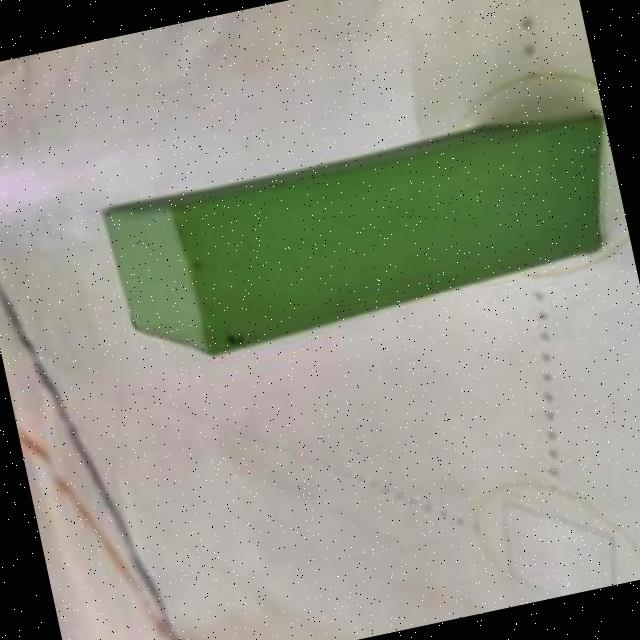greenbox: (98, 99, 635, 376)
